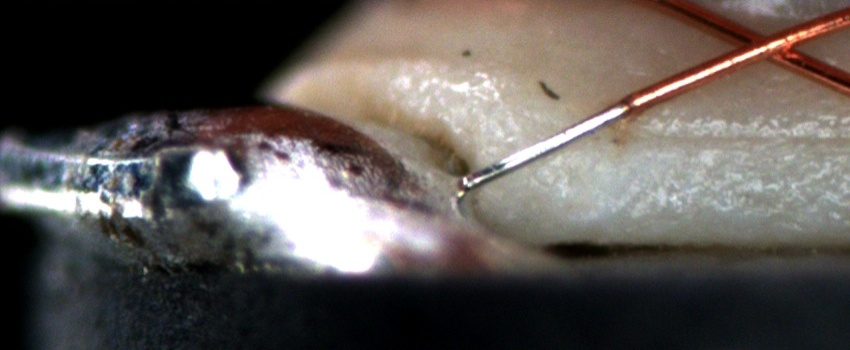CL: (712, 17, 820, 73)
DL: (633, 108, 850, 162)
TS: (459, 98, 629, 193)
